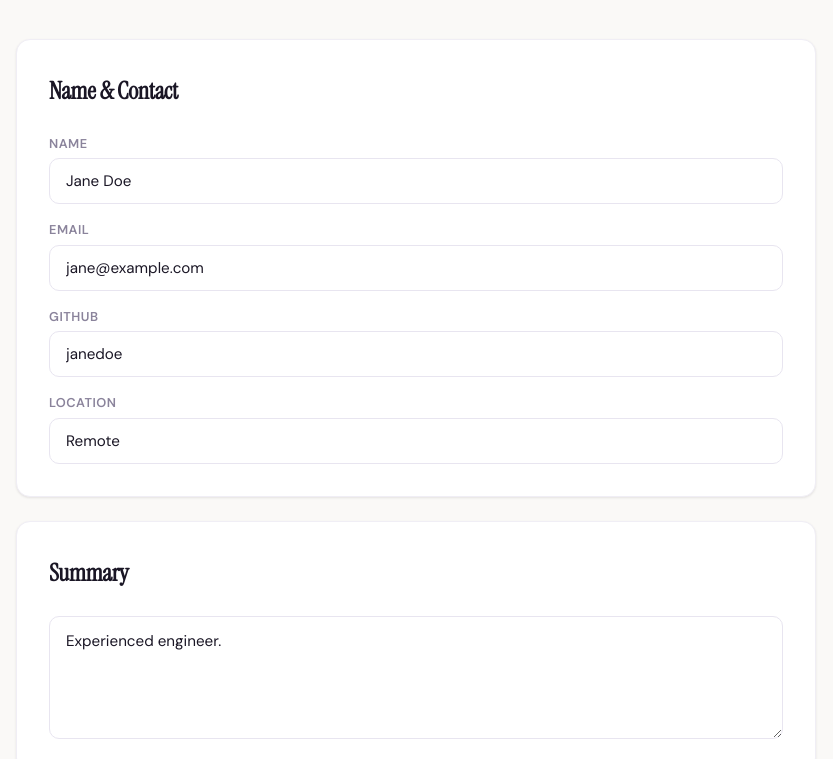
Test: Resume › flips to Saved after a successful save, then back to Unsaved after another edit
Replace the text in the 1st field showing "Jane Doe" with "Jane Smith". click: coordinates (416, 182)
box: [49,158,783,204]
(page scrolled)
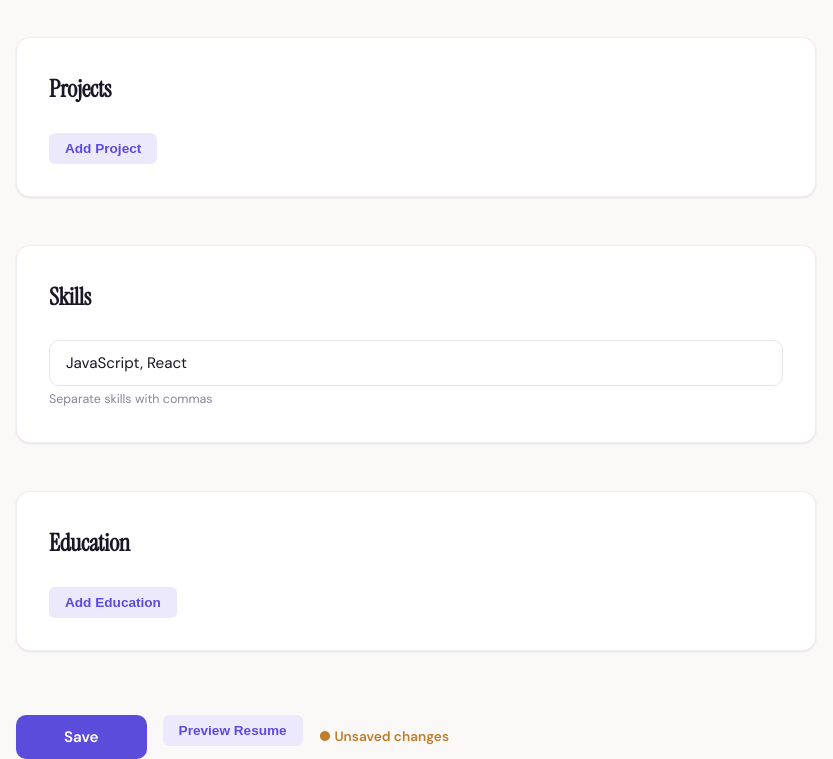
Expected: the text "● Unsaved changes" is shown, [319,726,449,748]
Click the button "Save". click: coordinates (81, 737)
box: [16,715,147,758]
(page scrolled)
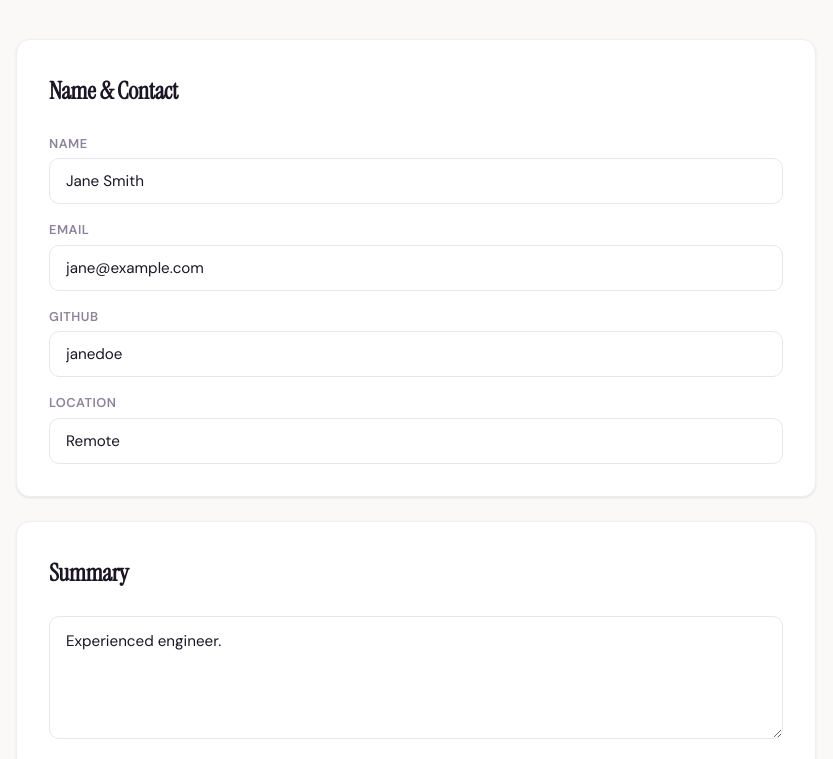
Expected: the text "Unsaved changes" is gone
Replace the text in the 1st field showing "Jane Smith" with "Jane S.". click: coordinates (416, 182)
box: [49,158,783,204]
(page scrolled)
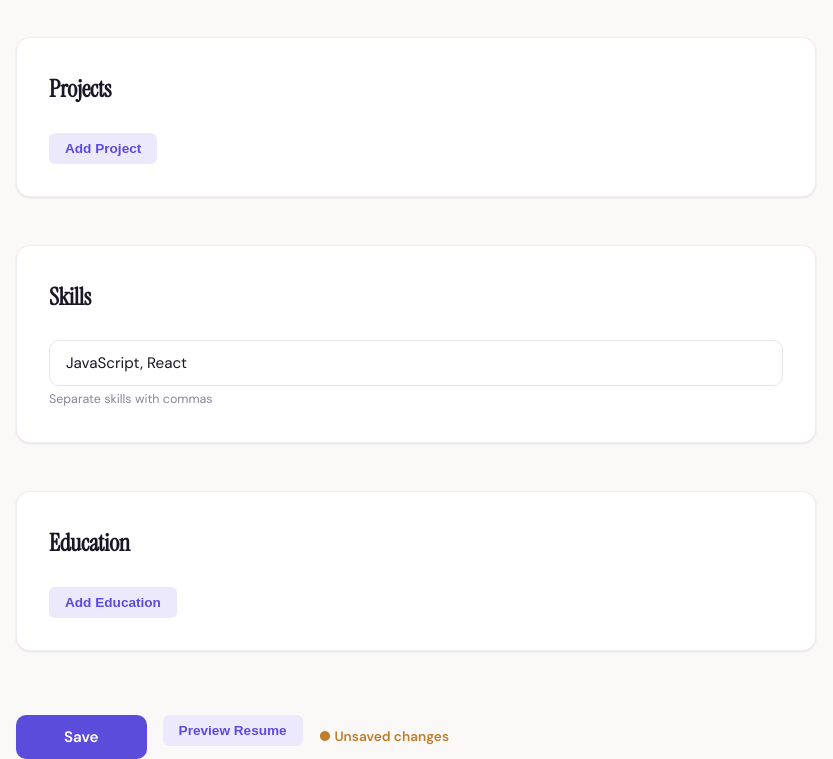
Expected: the text "● Unsaved changes" is shown, [319,726,449,748]
